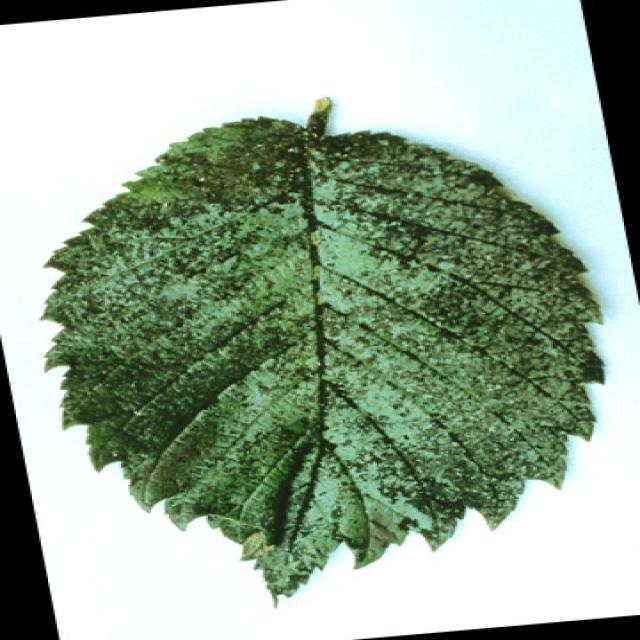Sooty Mold: (37, 94, 608, 606)
